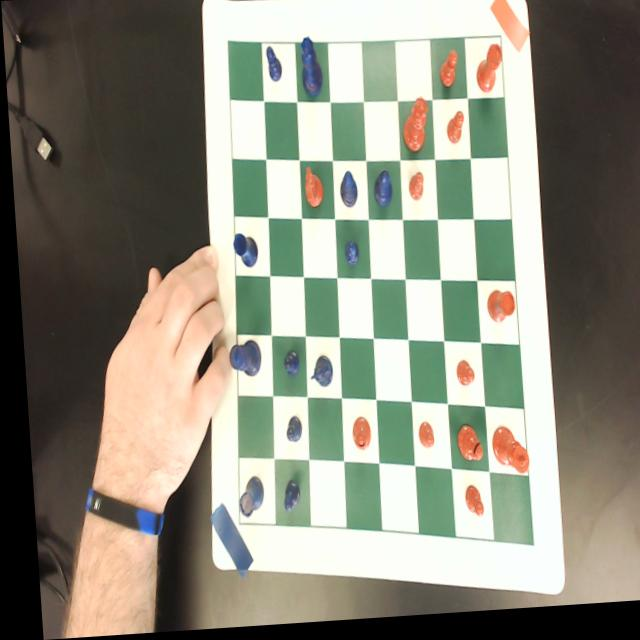B: (368, 174, 390, 213), (334, 174, 355, 213)
K: (222, 341, 256, 380)
N: (303, 357, 327, 392)
P: (263, 47, 281, 85), (274, 481, 293, 516), (277, 417, 296, 446), (276, 351, 294, 380), (340, 244, 355, 270)
Q: (297, 38, 322, 101)
R: (229, 477, 258, 521), (228, 234, 255, 271)
b: (449, 428, 477, 469), (344, 419, 364, 455)
cb: (226, 43, 525, 551)
k: (483, 430, 522, 481)
n: (300, 170, 320, 212)
p: (435, 53, 457, 94), (455, 488, 476, 523), (442, 115, 462, 150), (403, 175, 421, 206), (449, 364, 469, 391), (410, 424, 428, 454)
q: (398, 100, 427, 159)
r: (472, 50, 502, 99), (481, 295, 510, 328)
